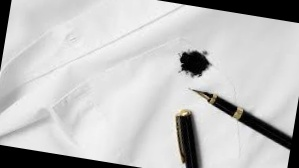ink: (176, 50, 211, 79)
